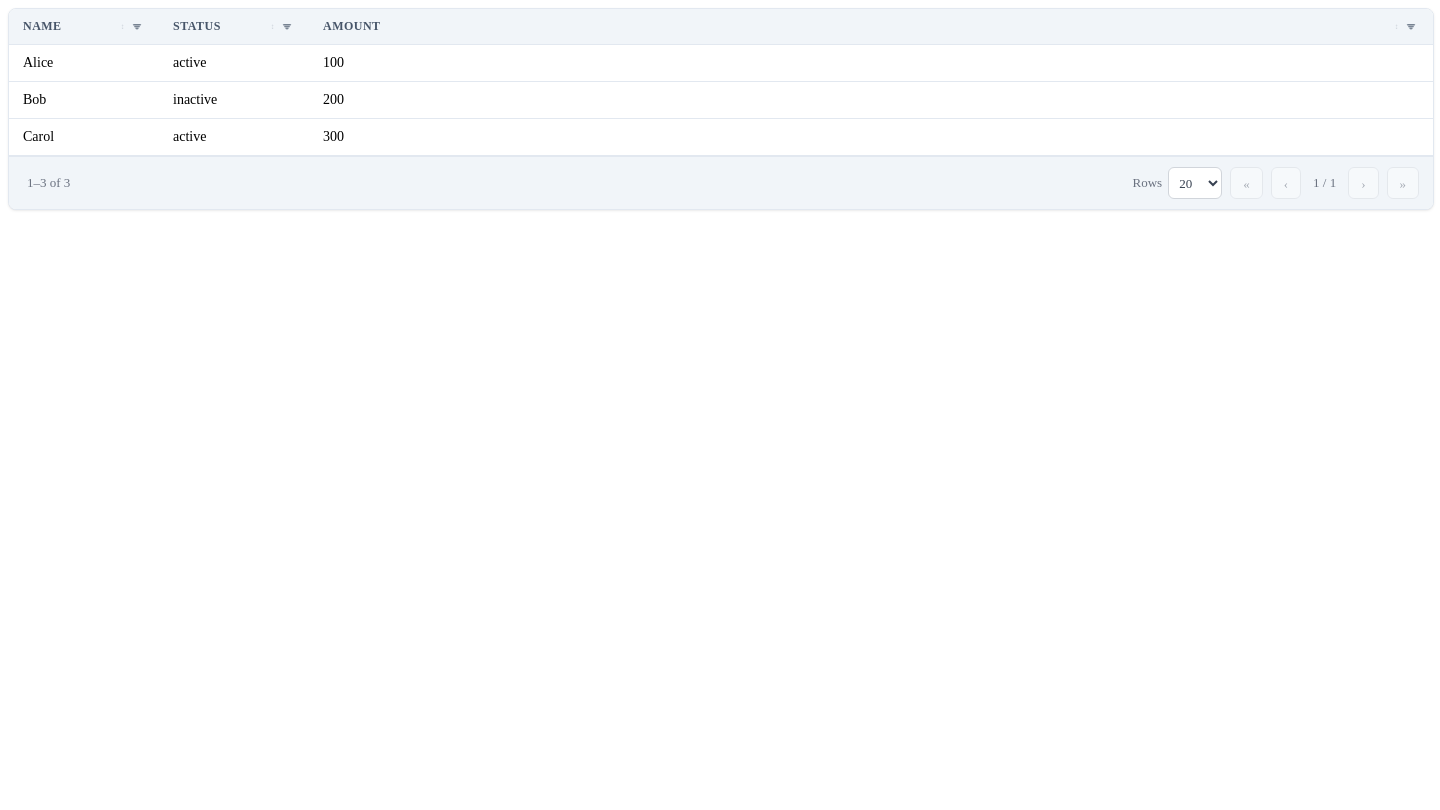
Test: DataGrid — filter panel › opens the filter panel when the filter button is clicked
The width and height of the screenshot is (1440, 810).
Click the button named "Filter Name" at (137, 26), box x1=129 y1=20 x2=145 y2=34
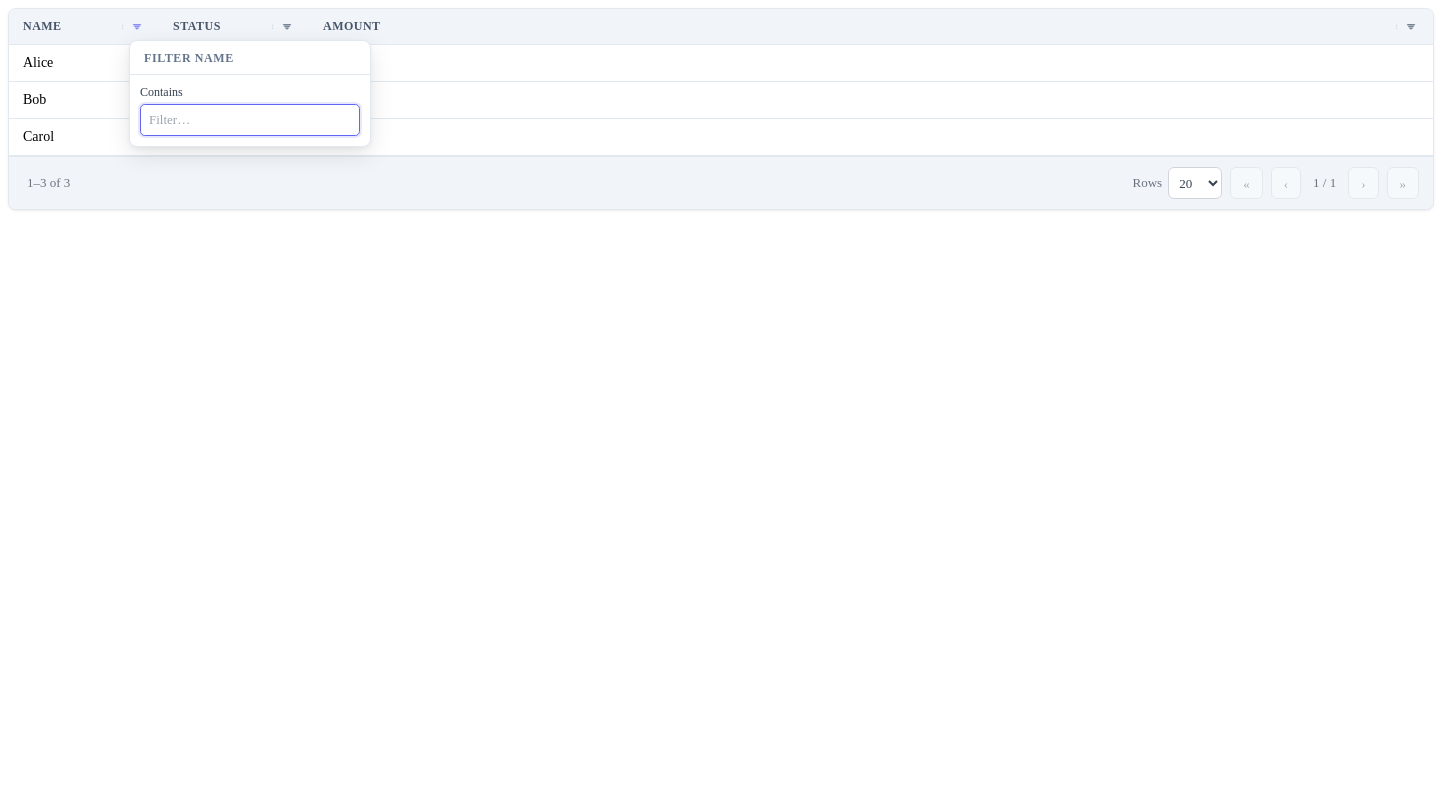
Result: the dialog "Filter Name" is shown at x1=129 y1=40 x2=371 y2=146
